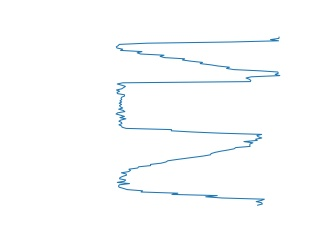distributaryChannelFill: (114, 72, 267, 141)
mouthBar: (115, 32, 284, 80)
underwaterDistributaryChannel: (115, 137, 270, 208)
